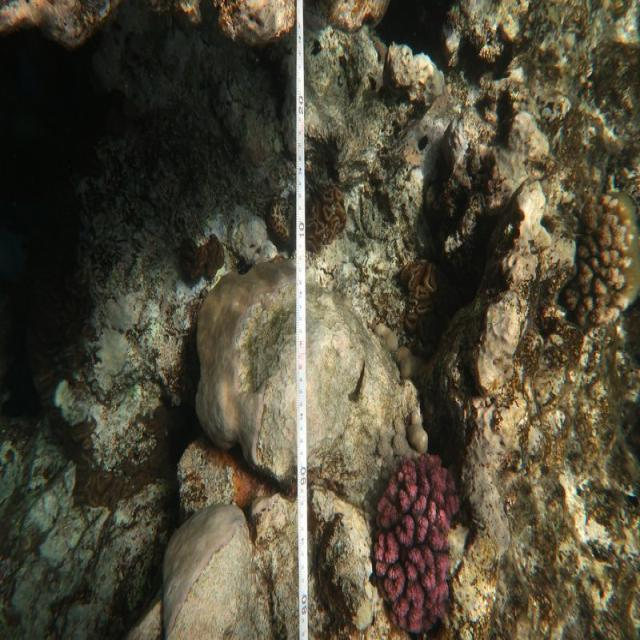Healthy Coral: (364, 432, 474, 640)
